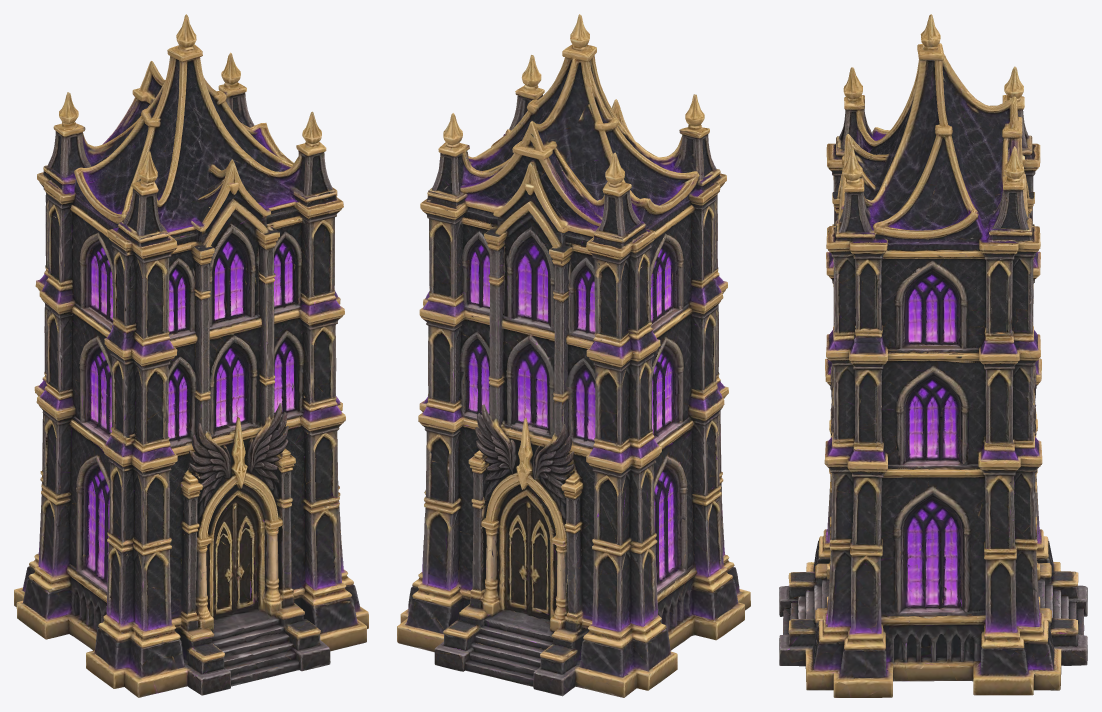
File: sq-violet.glb
3 renders of one model, left to right at view 1: azimuth 30°, elevation 25°; view 2: azimuth 150°, elevation 25°; view 3: azimuth 270°, elevation 25°, orthographic.
Parts seen in each view (by area): view 1: lod0; view 2: lod0; view 3: lod0.
Part boxes in pixels (x1=…): lod0: x1=14, y1=14, x2=368, y2=697; lod0: x1=397, y1=14, x2=750, y2=697; lod0: x1=779, y1=14, x2=1087, y2=697.
Size of what is drawn, in the model's own units: 0.8262 by 1.9 by 0.8607.
Materials: 1 (1 with a texture image).
